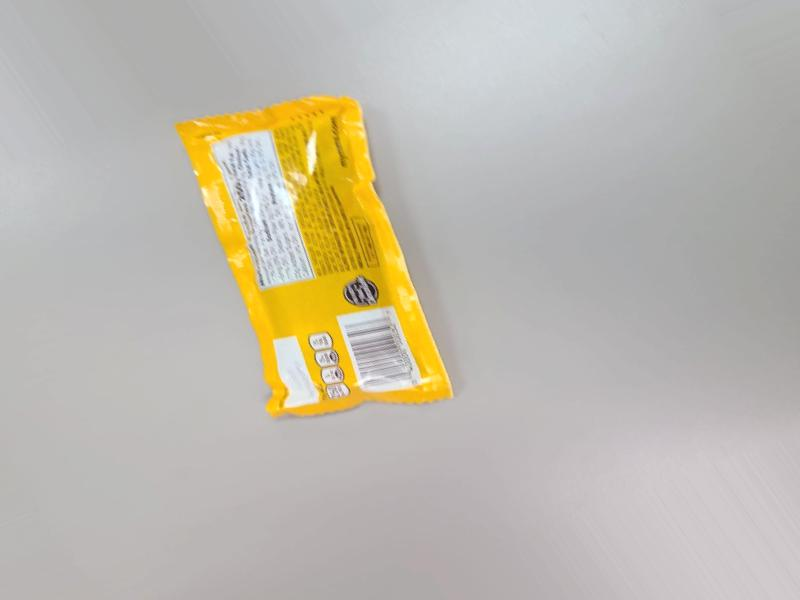m&m: (173, 100, 471, 428)
